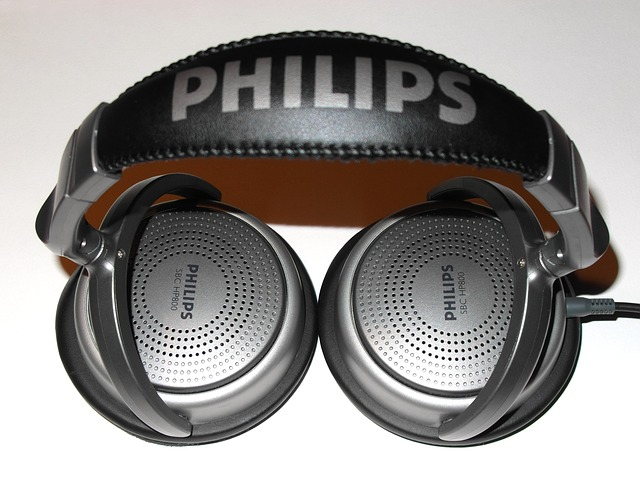headphones: (36, 30, 610, 448)
